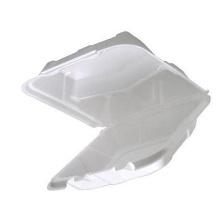foam_box: (14, 27, 215, 196)
